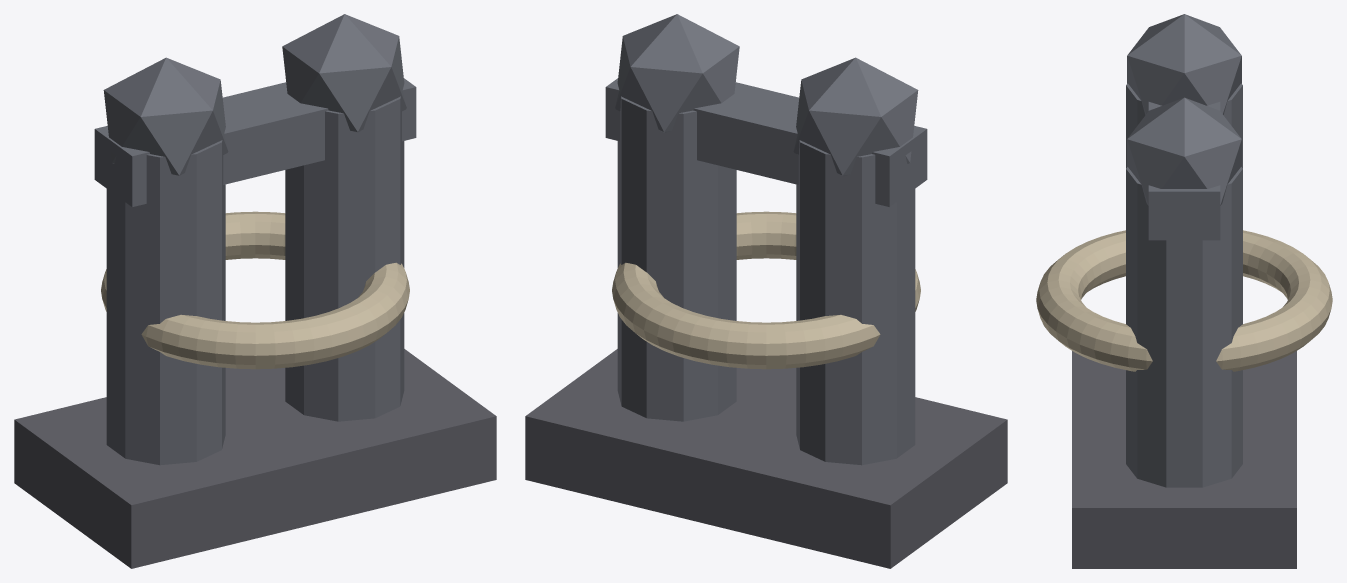
File: bt-hw-bollard.glb
3 renders of one model, left to right at view 1: azimuth 30°, elevation 25°; view 2: azimuth 150°, elevation 25°; view 3: azimuth 270°, elevation 25°, orthographic. The views are drawn at different scales.
Visible parts, largest first — view 1: bt-hw-bollard_base, bt-hw-bollard_post-1, bt-hw-bollard_post1, bt-hw-bollard_rope, bt-hw-bollard_bar, bt-hw-bollard_cap-1, bt-hw-bollard_cap1; view 2: bt-hw-bollard_base, bt-hw-bollard_post-1, bt-hw-bollard_post1, bt-hw-bollard_rope, bt-hw-bollard_bar, bt-hw-bollard_cap-1, bt-hw-bollard_cap1; view 3: bt-hw-bollard_base, bt-hw-bollard_post1, bt-hw-bollard_rope, bt-hw-bollard_cap1, bt-hw-bollard_cap-1, bt-hw-bollard_bar, bt-hw-bollard_post-1.
Boxes of the visible parts, x1,y1,x2,y2 form: bt-hw-bollard_base: (14, 349, 496, 568); bt-hw-bollard_post-1: (106, 140, 225, 465); bt-hw-bollard_post1: (285, 96, 404, 421); bt-hw-bollard_rope: (101, 211, 409, 369); bt-hw-bollard_bar: (94, 78, 416, 207); bt-hw-bollard_cap-1: (103, 57, 228, 176); bt-hw-bollard_cap1: (282, 14, 406, 132); bt-hw-bollard_base: (525, 349, 1007, 568); bt-hw-bollard_post-1: (796, 140, 915, 465); bt-hw-bollard_post1: (617, 96, 736, 421); bt-hw-bollard_rope: (612, 211, 920, 369); bt-hw-bollard_bar: (605, 78, 927, 207); bt-hw-bollard_cap-1: (793, 57, 918, 176); bt-hw-bollard_cap1: (615, 14, 739, 132); bt-hw-bollard_base: (1072, 351, 1296, 568); bt-hw-bollard_post1: (1126, 167, 1242, 487); bt-hw-bollard_rope: (1036, 230, 1332, 371); bt-hw-bollard_cap1: (1127, 97, 1241, 205); bt-hw-bollard_cap-1: (1127, 14, 1241, 114); bt-hw-bollard_bar: (1148, 102, 1220, 240); bt-hw-bollard_post-1: (1126, 83, 1242, 168).
Bounding box in the file's own units: 0.9 × 1.05 × 0.66.
